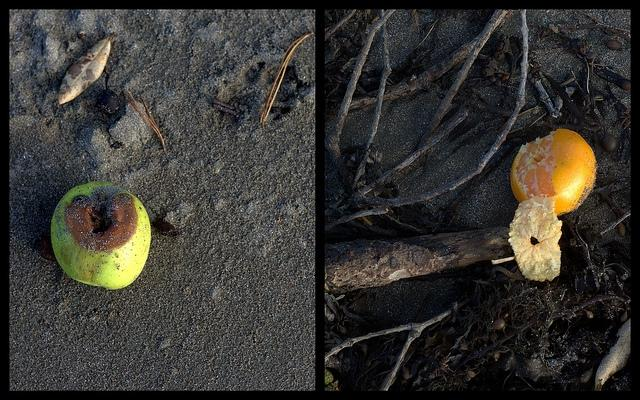apple: (51, 181, 151, 290)
orange: (508, 128, 596, 282)
